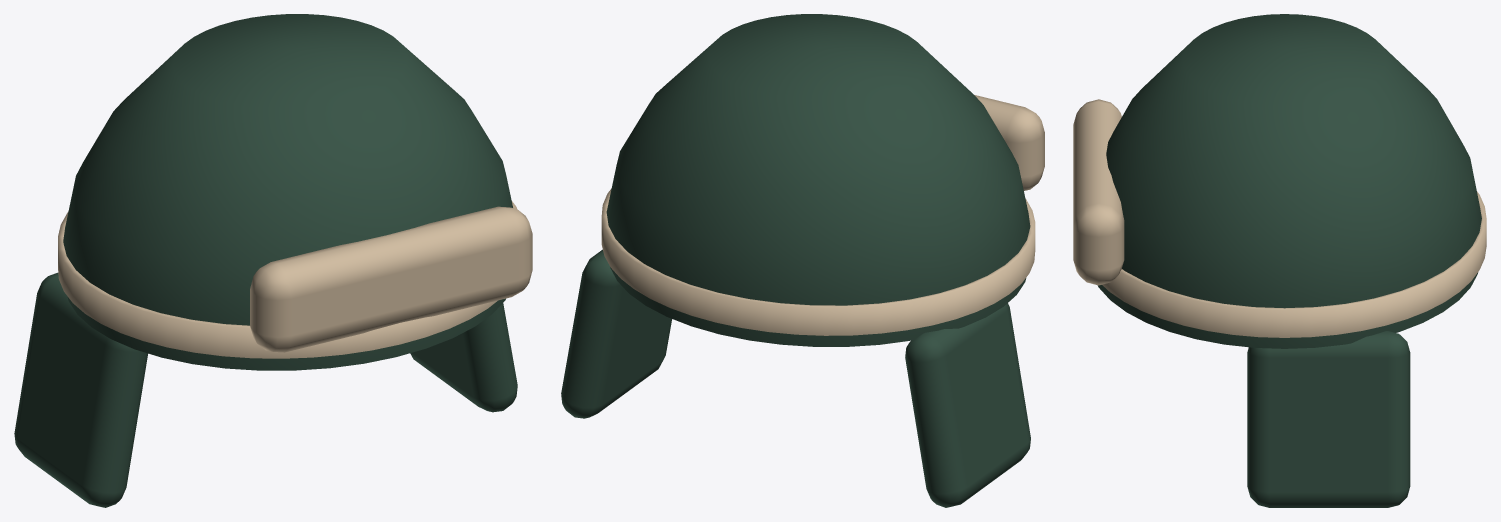
The model's file is 17-frostline-trapper.glb.
The picture shows the model from 3 angles, left to right: view 1: azimuth 30°, elevation 25°; view 2: azimuth 150°, elevation 25°; view 3: azimuth 270°, elevation 25°; orthographic projection. The views are drawn at different scales.
Visible parts, largest first — view 1: Hat17_Crown1, Hat17_FoldedFurBrim4, Hat17_EarFlap2, Hat17_Band5, Hat17_EarFlap3; view 2: Hat17_Crown1, Hat17_EarFlap2, Hat17_Band5, Hat17_EarFlap3, Hat17_FoldedFurBrim4; view 3: Hat17_Crown1, Hat17_EarFlap3, Hat17_Band5, Hat17_FoldedFurBrim4.
Boxes of the visible parts, x1,y1,x2,y2 form: Hat17_Crown1: (63, 14, 512, 370); Hat17_FoldedFurBrim4: (250, 206, 532, 352); Hat17_EarFlap2: (14, 272, 147, 507); Hat17_Band5: (58, 201, 516, 358); Hat17_EarFlap3: (410, 303, 517, 412); Hat17_Crown1: (606, 14, 1030, 346); Hat17_EarFlap2: (905, 303, 1030, 507); Hat17_Band5: (601, 188, 1035, 335); Hat17_EarFlap3: (561, 249, 671, 418); Hat17_FoldedFurBrim4: (974, 95, 1044, 190); Hat17_Crown1: (1097, 14, 1481, 348); Hat17_EarFlap3: (1247, 331, 1410, 507); Hat17_Band5: (1102, 191, 1486, 337); Hat17_FoldedFurBrim4: (1073, 99, 1124, 285).
Bounding box in the file's own units: 0.6756 × 0.6029 × 0.6091.
